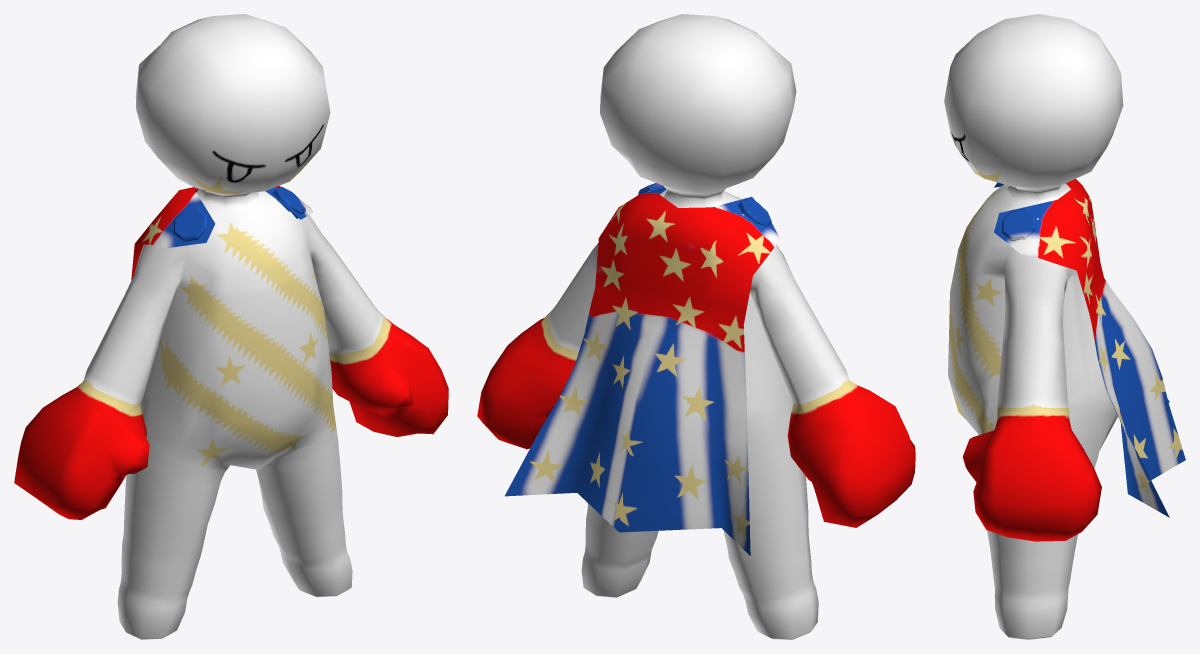
File: hero.fbx
3 renders of one model, left to right at view 1: azimuth 30°, elevation 25°; view 2: azimuth 150°, elevation 25°; view 3: azimuth 270°, elevation 25°, orthographic. The views are drawn at different scales.
Parts seen in each view (by area): view 1: pCylinder3; view 2: pCylinder3; view 3: pCylinder3.
Part boxes in pixels (x1,y1,x2,y2): pCylinder3: (14,14,448,639); pCylinder3: (477,14,915,639); pCylinder3: (944,14,1185,639).
Size of the model in its own units: 128 by 179 by 69.49.
Materials: 2 (2 with a texture image).
